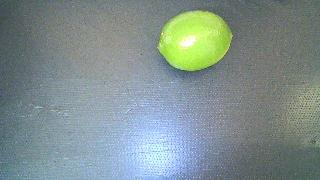EXPORTACION: (158, 11, 233, 71)
